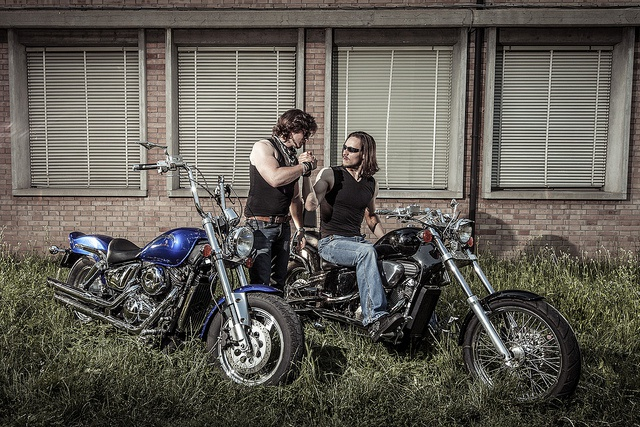non-vehicle: (42, 138, 305, 387), (283, 197, 582, 403)
